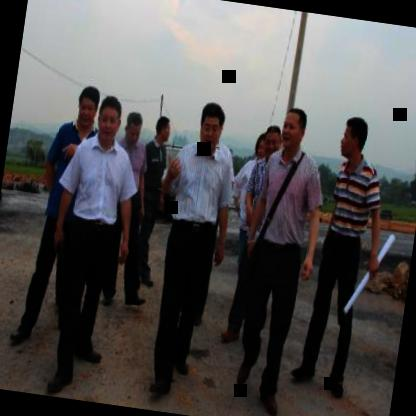head: (194, 96, 230, 153), (92, 91, 127, 146), (336, 112, 372, 164), (277, 101, 311, 155), (72, 79, 104, 135), (262, 124, 286, 164), (122, 110, 146, 146), (153, 110, 174, 146), (251, 132, 268, 168)
